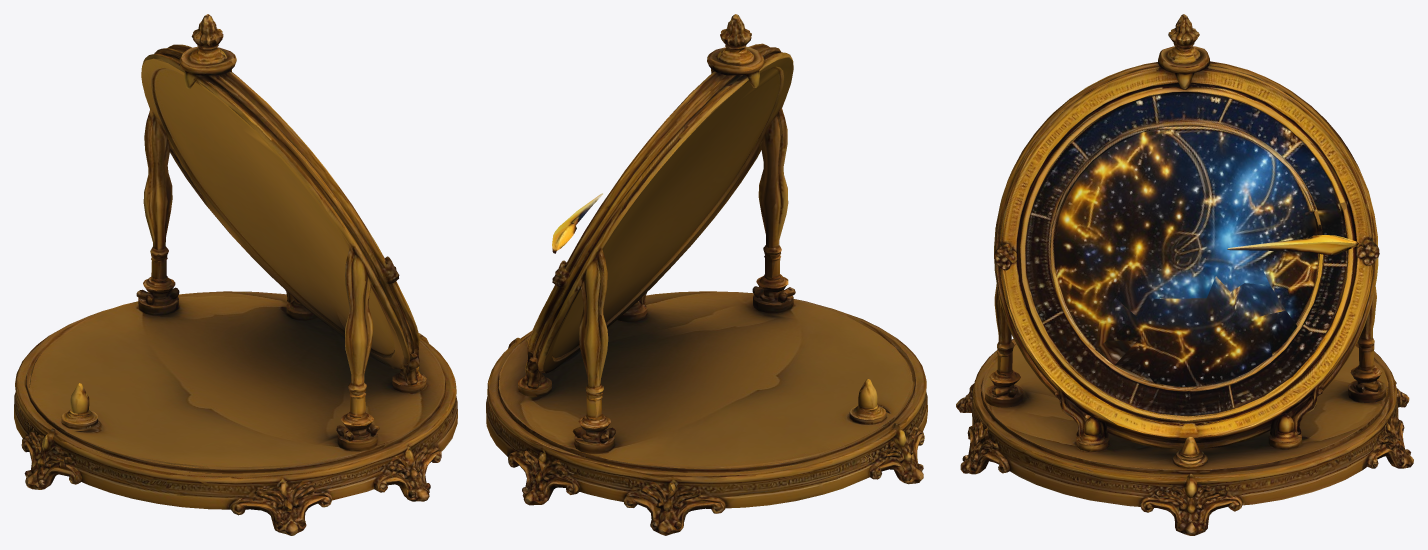
The picture shows the model from 3 angles, left to right: view 1: azimuth 30°, elevation 25°; view 2: azimuth 150°, elevation 25°; view 3: azimuth 270°, elevation 25°; orthographic projection. The views are drawn at different scales.
Parts seen in each view (by area): view 1: node_0; view 2: node_0, node_0.001; view 3: node_0, node_0.001.
Part boxes in pixels (x1,y1,x2,y2): node_0: [14, 14, 457, 535]; node_0: [486, 14, 927, 535]; node_0.001: [552, 193, 602, 253]; node_0: [956, 14, 1413, 535]; node_0.001: [1227, 235, 1358, 256].
Size of the model in its own units: 0.9684 by 0.9301 by 0.9392.
Materials: 1 (1 with a texture image).
